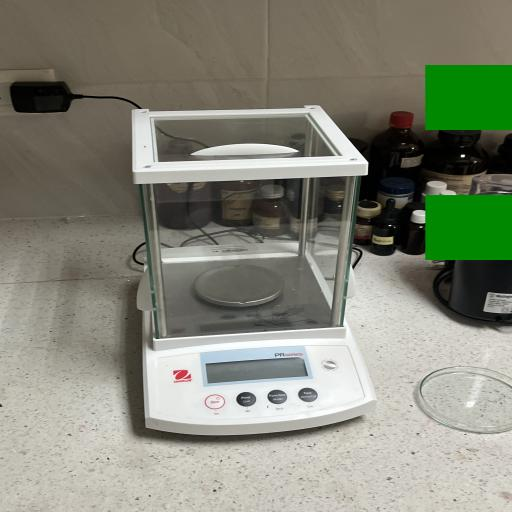Balanza_Analitica_Ohaus: (114, 99, 403, 447)
